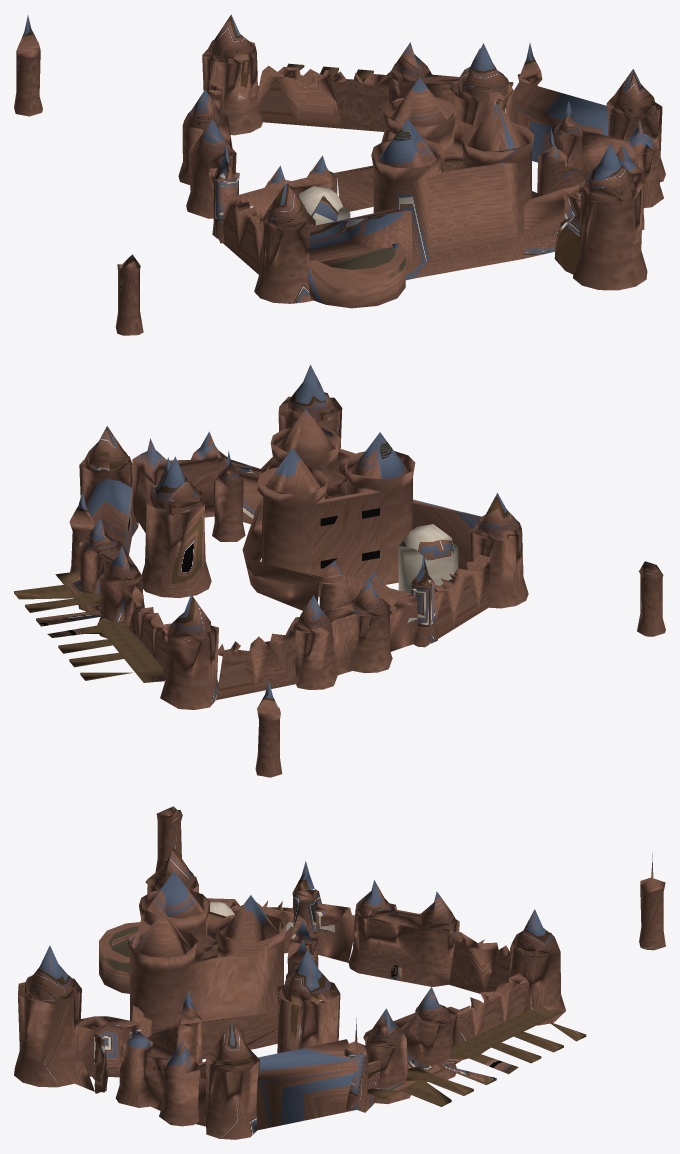
3 views of the same model, one above another, from view 1: azimuth 30°, elevation 25°; view 2: azimuth 150°, elevation 25°; view 3: azimuth 270°, elevation 25° (orthographic). The views are drawn at different scales.
Parts seen in each view (by area): view 1: landmark; view 2: landmark; view 3: landmark.
Part boxes in pixels (<box>): landmark: <box>14,14,665,335</box>; landmark: <box>14,364,665,777</box>; landmark: <box>14,806,665,1139</box>.
Size of the model in its own units: 43.38 by 11.55 by 44.03.
1 material, 1 textured.
